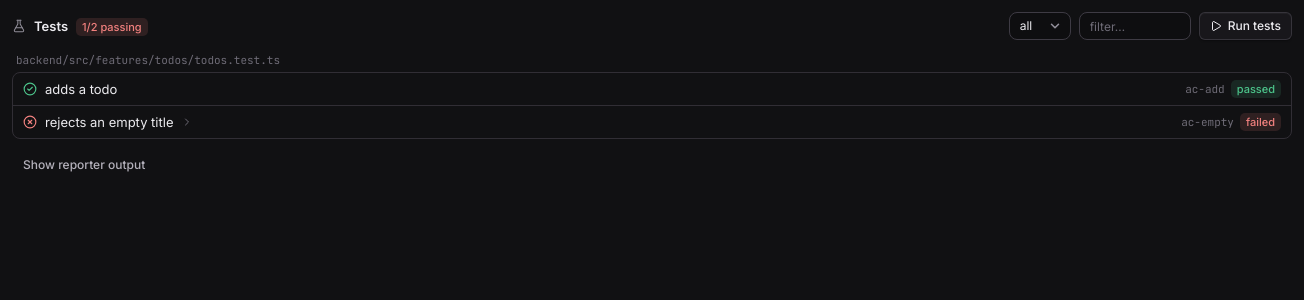
ResultsPanel › expands a failure to show its message, stack and implicated files
This screenshot has width=1304, height=300.
What coordinates should you click on to do the following:
click the button with test id "test-failed"
I would click on:
 (109, 122)
Its box is [13,106,1291,138].
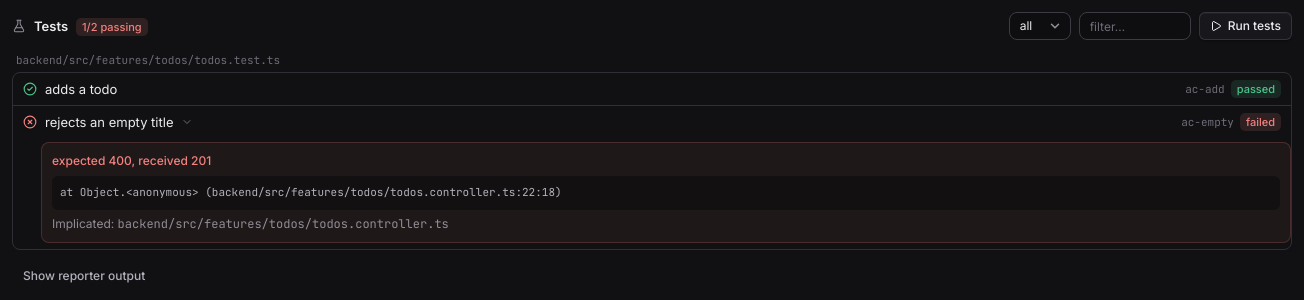
Check: the text "expected 400, received 201" is shown, box [52,153,211,168]
Check: the text "at Object.<anonymous>" is shown, box [60,185,562,199]
Check: the text "Implicated: backend/src/features/todos/todos.controller.ts" is shown, box [52,216,449,232]
